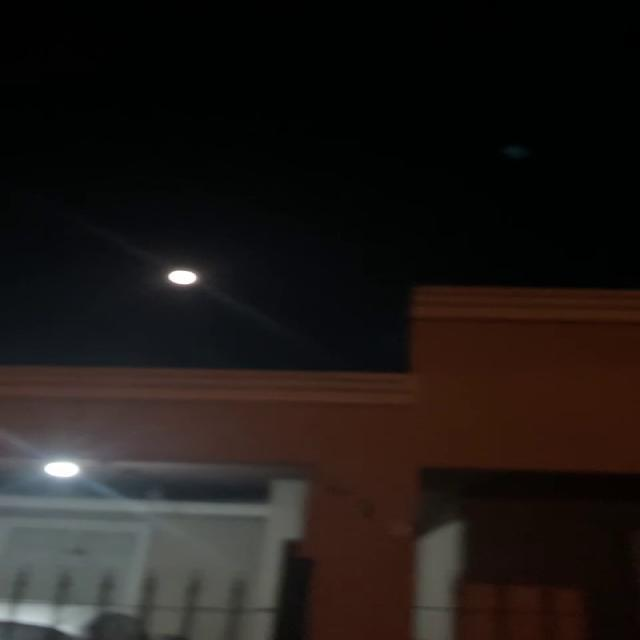moon: (162, 267, 214, 298)
